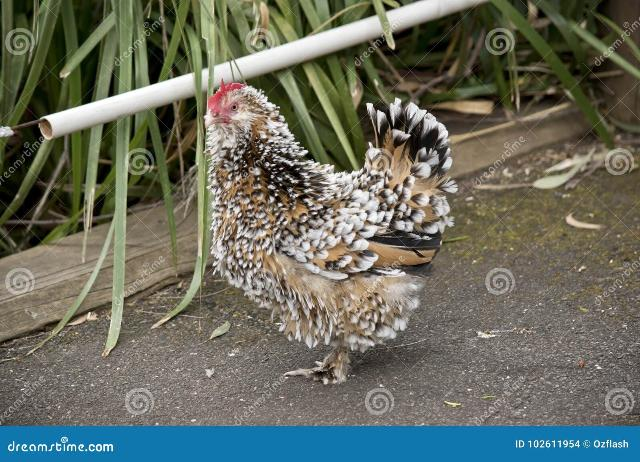Chicken: (203, 83, 458, 387)
